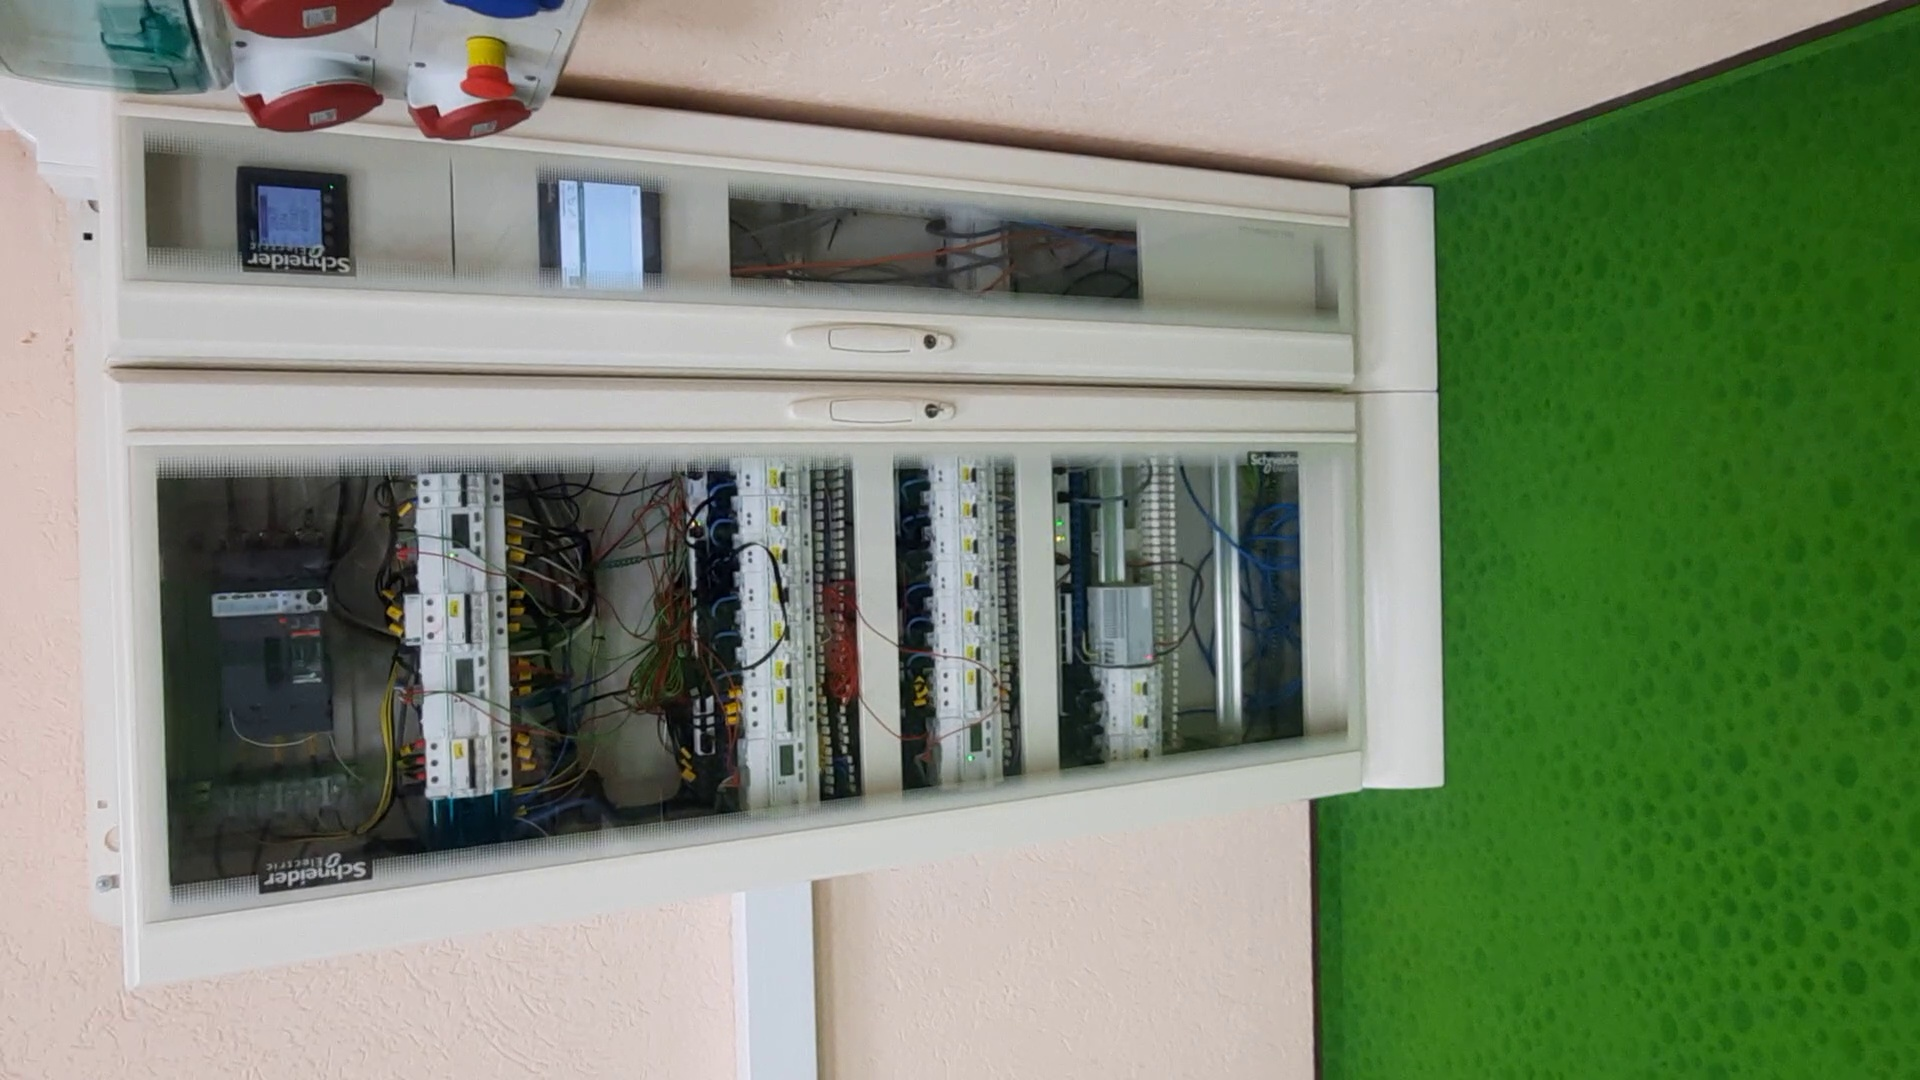stand1: (92, 127, 1449, 1035)
